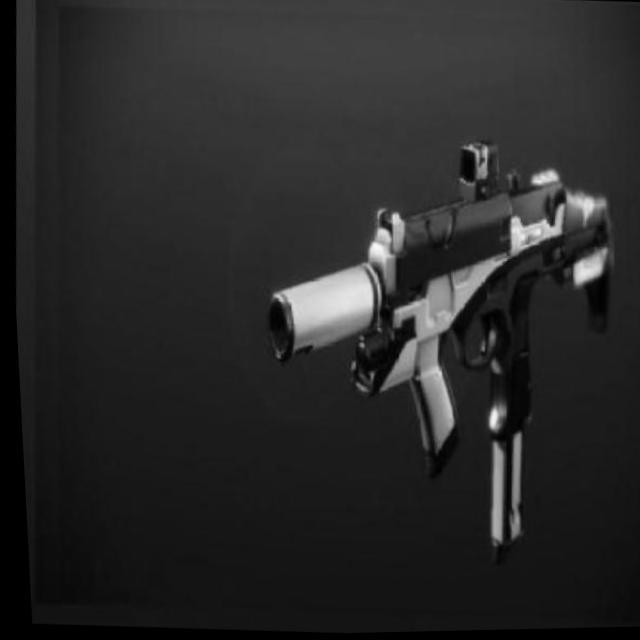weapon: (241, 126, 631, 570)
